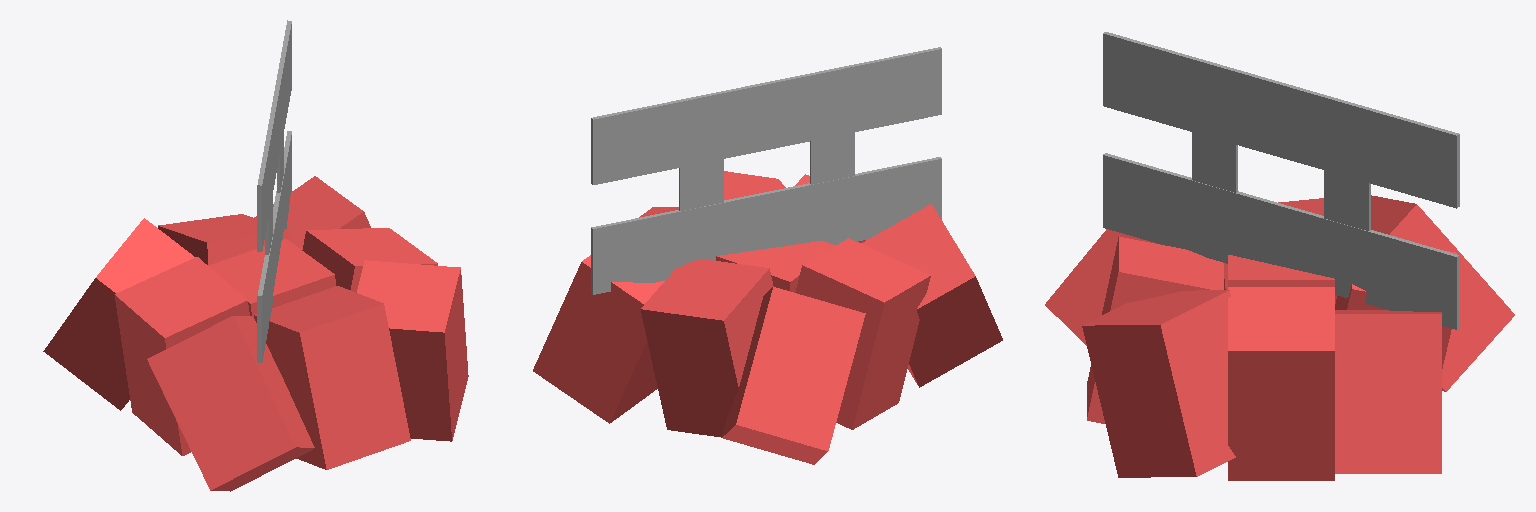
URDF robot description (environment):
<?xml version="1.0"?>
<robot name="environment">
  <material name="White">
    <color rgba="0.9 0.9 0.9 1"/>
  </material>
  <material name="Blue">
    <color rgba="0 0 1 1"/>
  </material>
  <material name="Red">
    <color rgba="1 0.4 0.4 1"/>
  </material>
  <material name="Green">
    <color rgba="0 1 0 1"/>
  </material>
  <material name="Gray">
    <color rgba="0.7 0.7 0.7 0.4"/>
  </material>
  <material name="Black"><!-- or brown-->
    <color rgba="0.2 0.1 0.1 1"/>
  </material>

  <link name="obstacle_base">
    <inertial>
      <origin xyz="0 0 0" rpy="0 0 0"/>
      <mass value="1.0" />
      <inertia  ixx="1.0" ixy="0.0"  ixz="0.0"  iyy="1.0"  iyz="0.0"  izz="1.0" />
    </inertial>
    <visual>
      <origin xyz="0 0 -0.1" rpy="0 0 0"/>
      <geometry>
        <box size="0.1 0.1 0.1"/>
      </geometry>
      <material name="White"/>
    </visual>
  </link>

  <joint name="j_one" type="fixed">
    <parent link="obstacle_base"/>
    <child link="l_one"/>
    <origin rpy="0 -0.1 0" xyz="0 0 0"/>
  </joint>

  <link name="l_one">
    <inertial>
      <origin xyz="0 0 0" /> 
      <mass value="1.0" />
      <inertia  ixx="1.0" ixy="0.0"  ixz="0.0"  iyy="1.0"  iyz="0.0"  izz="1.0" />
    </inertial>
    <visual>
      <origin xyz="0 0 0"/>
      <geometry>
        <box size="4 4 6" /> 
      </geometry>
      <material name="Red"/>
    </visual>
    <collision>
      <origin xyz="0 0 0"/>
      <geometry>
        <box size="4 4 6" />
      </geometry>
    </collision>
  </link>
  
  <joint name="j_two" type="fixed">
    <parent link="obstacle_base"/>
    <child link="l_two"/>
    <origin rpy="0.1 -0.2 0" xyz="-4 0 0"/>
  </joint>

  <link name="l_two">
    <inertial>
      <origin xyz="0 0 0" /> 
      <mass value="1.0" />
      <inertia  ixx="1.0" ixy="0.0"  ixz="0.0"  iyy="1.0"  iyz="0.0"  izz="1.0" />
    </inertial>
    <visual>
      <origin xyz="0 0 0"/>
      <geometry>
        <box size="4 4 6" />
      </geometry>
      <material name="Red"/>
    </visual>
    <collision>
      <origin xyz="0 0 0"/>
      <geometry>
        <box size="4 4 6" />
      </geometry>
    </collision>
  </link>
  
  <joint name="j_three" type="fixed">
    <parent link="obstacle_base"/>
    <child link="l_three"/>
    <origin rpy="0 0.2 0" xyz="4 0 0"/>
  </joint>

  <link name="l_three">
    <inertial>
      <origin xyz="0 0 0" /> 
      <mass value="1.0" />
      <inertia  ixx="1.0" ixy="0.0"  ixz="0.0"  iyy="1.0"  iyz="0.0"  izz="1.0" />
    </inertial>
    <visual>
      <origin xyz="0 0 0"/>
      <geometry>
        <box size="4 4 6" />
      </geometry>
      <material name="Red"/>
    </visual>
    <collision>
      <origin xyz="0 0 0"/>
      <geometry>
        <box size="4 4 6" />
      </geometry>
    </collision>
  </link>
  
  <joint name="j_four" type="fixed">
    <parent link="obstacle_base"/>
    <child link="l_four"/>
    <origin rpy="-0.2 -0.1 0" xyz="0 -4.7 0"/>
  </joint>

  <link name="l_four">
    <inertial>
      <origin xyz="0 0 0" /> 
      <mass value="1.0" />
      <inertia  ixx="1.0" ixy="0.0"  ixz="0.0"  iyy="1.0"  iyz="0.0"  izz="1.0" />
    </inertial>
    <visual>
      <origin xyz="0 0 0"/>
      <geometry>
        <box size="4 4 6" />
      </geometry>
      <material name="Red"/>
    </visual>
    <collision>
      <origin xyz="0 0 0"/>
      <geometry>
        <box size="4 4 6" />
      </geometry>
    </collision>
  </link>
  
  <joint name="j_fourfive" type="fixed">
    <parent link="obstacle_base"/>
    <child link="l_fourfive"/>
    <origin rpy="-0.2 0.1 0" xyz="0 4 0"/>
  </joint>

  <link name="l_fourfive">
    <inertial>
      <origin xyz="0 0 0" /> 
      <mass value="1.0" />
      <inertia  ixx="1.0" ixy="0.0"  ixz="0.0"  iyy="1.0"  iyz="0.0"  izz="1.0" />
    </inertial>
    <visual>
      <origin xyz="0 0 0"/>
      <geometry>
        <box size="4 4 6" />
      </geometry>
      <material name="Red"/>
    </visual>
    <collision>
      <origin xyz="0 0 0"/>
      <geometry>
        <box size="4 4 6" /> 
      </geometry>
    </collision>
  </link>
  
    <joint name="j_five" type="fixed">
    <parent link="obstacle_base"/>
    <child link="l_five"/>
    <origin rpy="0 -0.4 0" xyz="4.7 4 0"/>
  </joint>

  <link name="l_five">
    <inertial>
      <origin xyz="0 0 0" /> 
      <mass value="1.0" />
      <inertia  ixx="1.0" ixy="0.0"  ixz="0.0"  iyy="1.0"  iyz="0.0"  izz="1.0" />
    </inertial>
    <visual>
      <origin xyz="0 0 0"/>
      <geometry>
        <box size="4 4 6" />
      </geometry>
      <material name="Red"/>
    </visual>
    <collision>
      <origin xyz="0 0 0"/>
      <geometry>
        <box size="4 4 6" />
      </geometry>
    </collision>
  </link>
  
  <joint name="j_six" type="fixed">
    <parent link="obstacle_base"/>
    <child link="l_six"/>
    <origin rpy="0.3 0 -0.7" xyz="4 -4 0"/> <!-- pi/4 -->
  </joint>

  <link name="l_six">
    <inertial>
      <origin xyz="0 0 0" /> 
      <mass value="1.0" />
      <inertia  ixx="1.0" ixy="0.0"  ixz="0.0"  iyy="1.0"  iyz="0.0"  izz="1.0" />
    </inertial>
    <visual>
      <origin xyz="0 0 0"/>
      <geometry>
        <box size="4 4 6" />
      </geometry>
      <material name="Red"/>
    </visual>
    <collision>
      <origin xyz="0 0 0"/>
      <geometry>
        <box size="4 4 6" />
      </geometry>
    </collision>
  </link>
  
  <joint name="j_seven" type="fixed">
    <parent link="obstacle_base"/>
    <child link="l_seven"/>
    <origin rpy="0.6 -0.3 0.5" xyz="-4 4.7 0"/>
  </joint>

  <link name="l_seven">
    <inertial>
      <origin xyz="0 0 0" /> 
      <mass value="1.0" />
      <inertia  ixx="1.0" ixy="0.0"  ixz="0.0"  iyy="1.0"  iyz="0.0"  izz="1.0" />
    </inertial>
    <visual>
      <origin xyz="0 0 0"/>
      <geometry>
        <box size="4 4 6" />
      </geometry>
      <material name="Red"/>
    </visual>
    <collision>
      <origin xyz="0 0 0"/>
      <geometry>
        <box size="4 4 6" />
      </geometry>
    </collision>
  </link>
  
  <joint name="j_eight" type="fixed">
    <parent link="obstacle_base"/>
    <child link="l_eight"/>
    <origin rpy="-0.5 -0.5 -0.5" xyz="-4.8 -4.8 0"/>
  </joint>

  <link name="l_eight">
    <inertial>
      <origin xyz="0 0 0" /> 
      <mass value="1.0" />
      <inertia  ixx="1.0" ixy="0.0"  ixz="0.0"  iyy="1.0"  iyz="0.0"  izz="1.0" />
    </inertial>
    <visual>
      <origin xyz="0 0 0"/>
      <geometry>
        <box size="4 4 6" />
      </geometry>
      <material name="Red"/>
    </visual>
    <collision>
      <origin xyz="0 0 0"/>
      <geometry>
        <box size="4 4 6" />
      </geometry>
    </collision>
  </link>
  
 
 <!-- beginning of wall part, absolute coordinates -->
 
 <joint name="j_ten" type="fixed">
    <parent link="obstacle_base"/>
    <child link="l_ten"/>
    <origin rpy="0 0 -0.6" xyz="0 0 2"/>
  </joint>
 
   <link name="l_ten">
    <visual>
      <origin xyz="0 0 7"/><!-- -0.05 0 -0.55 -->
      <geometry>
        <box size="0.2 16 3" />
      </geometry>
      <material name="Gray"/>
    </visual>
    <collision>
      <origin xyz="0 0 7"/>
      <geometry>
        <box size="0.2 16 3" />
      </geometry>
    </collision>
  </link>
  
  <joint name="j_eleven" type="fixed">
    <parent link="obstacle_base"/>
    <child link="l_eleven"/>
    <origin rpy="0 0 -0.6" xyz="0 0 2"/>
  </joint>
        
  <link name="l_eleven">
    <visual>
      <origin xyz="0 0 2"/>
      <geometry>
        <box size="0.2 16 3" />
      </geometry>
      <material name="Gray"/>
    </visual>
    <collision>
      <origin xyz="0 0 2"/>
      <geometry>
        <box size="0.2 16 3" />
      </geometry>
    </collision>
  </link>
  
  
  <joint name="j_twelve" type="fixed">
    <parent link="obstacle_base"/>
    <child link="l_twelve"/>
    <origin rpy="0 0 -0.6" xyz="0 0 2"/>
  </joint>
        
  <link name="l_twelve">
    <visual>
      <origin xyz="0 -3 5"/>
      <geometry>
        <box size="0.15 2 3" />
      </geometry>
      <material name="Gray"/>
    </visual>
    <collision>
      <origin xyz="0 -3 5"/>
      <geometry>
        <box size="0.15 2 3" />
      </geometry>
    </collision>
  </link>
  
  
  <joint name="j_fourteen" type="fixed">
    <parent link="obstacle_base"/>
    <child link="l_fourteen"/>
    <origin rpy="0 0 -0.6" xyz="0 0 2"/>
  </joint>
        
  <link name="l_fourteen">
    <visual>
      <origin xyz="0 3 5"/>
      <geometry>
         <box size="0.15 2 3" />
      </geometry>
      <material name="Gray"/>
    </visual>
    <collision>
      <origin xyz="0 3 5"/>
      <geometry>
         <box size="0.15 2 3" />
      </geometry>
    </collision>
  </link>
 
  <!--<joint name="j_fifteen" type="fixed">
    <parent link="obstacle_base"/>
    <child link="l_fifteen"/>
    <origin rpy="0 0 -0.6" xyz="0 0 1"/>
  </joint>
        
  <link name="l_fifteen">
    <visual>
     <origin xyz="0 0 5"/>
      <geometry>
         <box size="0.2 1 3" />
      </geometry>
      <material name="Gray"/>
    </visual>
    <collision>
     <origin xyz="0 0 5"/>
      <geometry>
         <box size="0.2 1 3" />
      </geometry>
    </collision>
  </link>-->
 
</robot>

--- Facts derived from the render (not from the file) ---
3 views of the same robot in one strip: view 1: azimuth 30°, elevation 25°; view 2: azimuth 150°, elevation 25°; view 3: azimuth 270°, elevation 25° (orthographic).
Robot: environment — 14 links, 13 joints (13 fixed); root link obstacle_base; default pose: every joint at zero.
Visible links, largest first — view 1: l_four, l_eight, l_six, l_two, l_seven, l_three, l_one, l_fourfive, l_five, l_ten, l_eleven; view 2: l_ten, l_eleven, l_seven, l_fourfive, l_two, l_five, l_eight, l_one, l_twelve, l_fourteen, l_six; view 3: l_ten, l_eleven, l_six, l_three, l_five, l_seven, l_four, l_eight, l_fourteen, l_twelve, l_one, l_fourfive.
Link boxes in pixels (x1,y1,x2,y2): l_four: (254,286,410,469); l_eight: (147,316,314,491); l_six: (357,260,468,441); l_two: (114,257,249,455); l_seven: (43,218,194,410); l_three: (302,228,437,292); l_one: (209,239,335,316); l_fourfive: (158,214,291,265); l_five: (254,176,370,249); l_ten: (257,20,291,251); l_eleven: (257,131,291,362); l_ten: (591,47,941,184); l_eleven: (591,157,941,294); l_seven: (722,287,865,464); l_fourfive: (640,259,773,437); l_two: (795,238,930,429); l_five: (533,255,664,423); l_eight: (861,204,1002,387); l_one: (716,241,835,292); l_twelve: (810,132,854,184); l_fourteen: (679,159,723,210); l_six: (724,171,785,199); l_ten: (1103,32,1459,208); l_eleven: (1103,153,1459,329); l_six: (1082,290,1235,477); l_three: (1228,287,1334,480); l_five: (1335,310,1441,473); l_seven: (1335,195,1514,391); l_four: (1087,237,1223,423); l_eight: (1045,229,1225,345); l_fourteen: (1324,170,1370,230); l_twelve: (1192,132,1237,192); l_one: (1228,255,1334,286); l_fourfive: (1335,250,1456,368).
Size in the robot's own frame: 15.71 by 17.57 by 14.61 metres.
Geometry: primitives only (box / cylinder / sphere), no mesh files.
